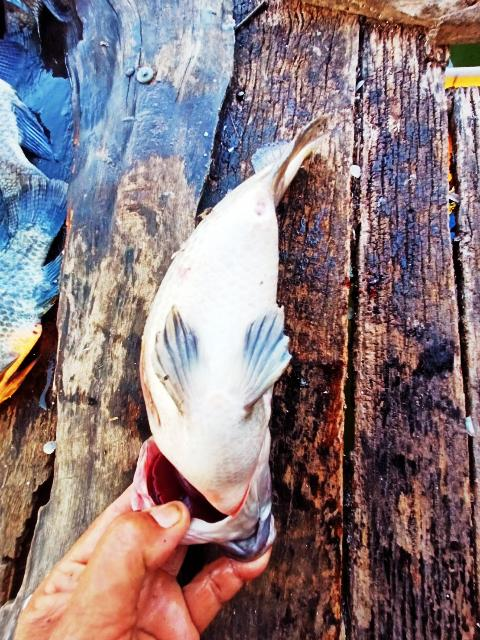Columnaris Disease: (133, 116, 328, 560)
